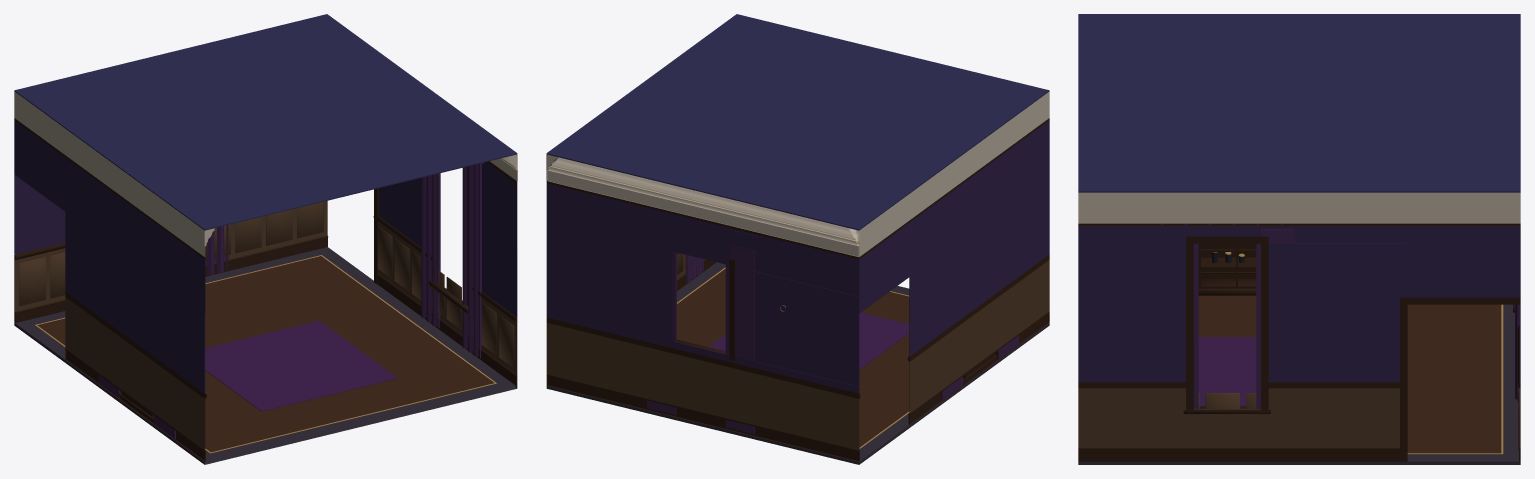
The model's file is seance.glb.
3 renders of one model, left to right at view 1: azimuth 30°, elevation 25°; view 2: azimuth 150°, elevation 25°; view 3: azimuth 270°, elevation 25°, orthographic. The views are drawn at different scales.
Parts seen in each view (by area): view 1: Sea_main, Sea_right, Sea_back; view 2: Sea_main, Sea_back, Sea_right; view 3: Sea_main, Sea_right, Sea_back.
Boxes of the visible parts, bbox=[...] form: Sea_main: bbox=[14, 14, 517, 464]; Sea_right: bbox=[373, 154, 517, 385]; Sea_back: bbox=[14, 91, 328, 323]; Sea_main: bbox=[546, 14, 1049, 464]; Sea_back: bbox=[546, 157, 864, 461]; Sea_right: bbox=[546, 154, 716, 290]; Sea_main: bbox=[1078, 14, 1520, 464]; Sea_right: bbox=[1078, 192, 1520, 461]; Sea_back: bbox=[1513, 225, 1520, 461].
Bounding box in the file's own units: 8.73 × 6.28 × 9.2.
